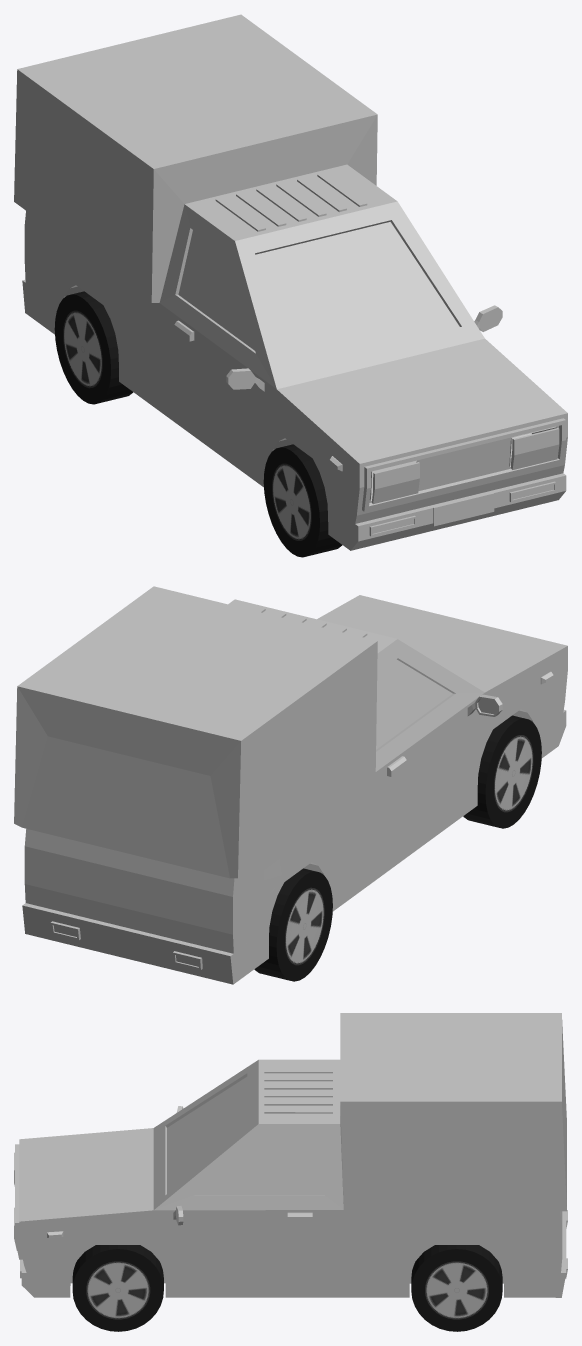
File: LowPolyCarPU.fbx
The picture shows the model from 3 angles, top to bottom: view 1: azimuth 30°, elevation 25°; view 2: azimuth 150°, elevation 25°; view 3: azimuth 270°, elevation 25°; orthographic projection. The views are drawn at different scales.
Parts seen in each view (by area): view 1: LowPolyCarPU.Mesh, FrontWheel.Mesh.R, RearWheel.Mesh.R; view 2: LowPolyCarPU.Mesh, FrontWheel.Mesh.R, RearWheel.Mesh.R; view 3: LowPolyCarPU.Mesh, FrontWheel.Mesh.L, RearWheel.Mesh.L.
Part boxes in pixels (x1,y1,x2,y2): LowPolyCarPU.Mesh: (14, 14, 567, 550); FrontWheel.Mesh.R: (263, 444, 342, 557); RearWheel.Mesh.R: (54, 291, 133, 404); LowPolyCarPU.Mesh: (14, 586, 567, 984); FrontWheel.Mesh.R: (463, 715, 541, 828); RearWheel.Mesh.R: (254, 868, 332, 981); LowPolyCarPU.Mesh: (14, 1013, 567, 1297); FrontWheel.Mesh.L: (72, 1245, 163, 1331); RearWheel.Mesh.L: (411, 1245, 502, 1331).
Bounding box in the file's own units: 0.8441 × 0.8355 × 1.82.
